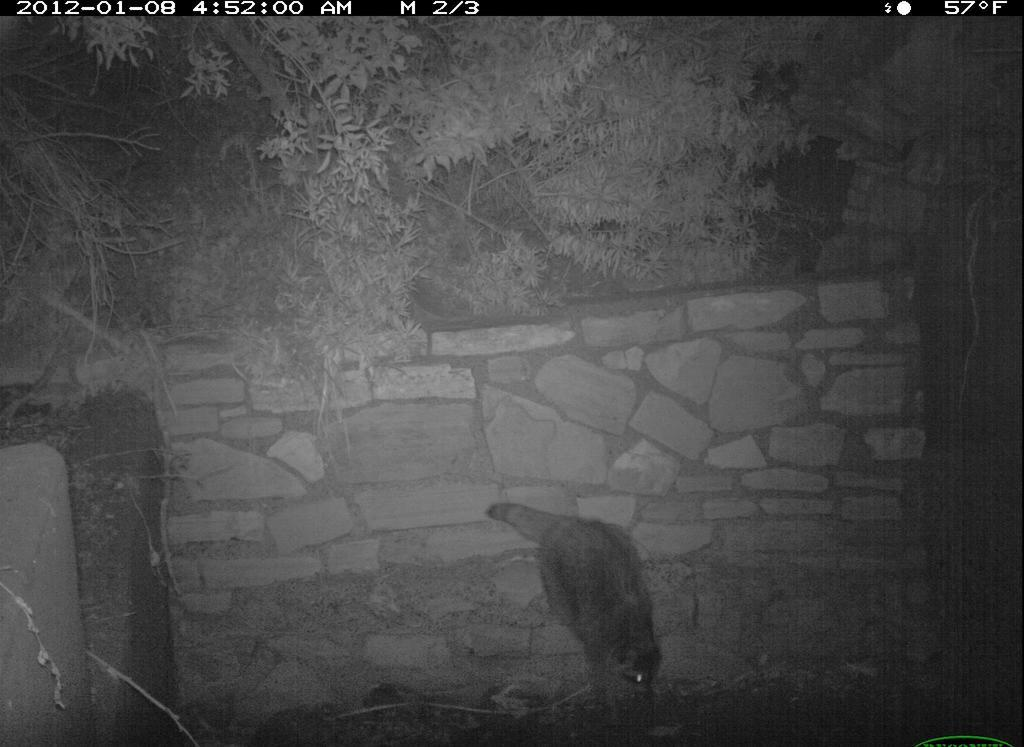raccoon: (486, 495, 667, 729)
